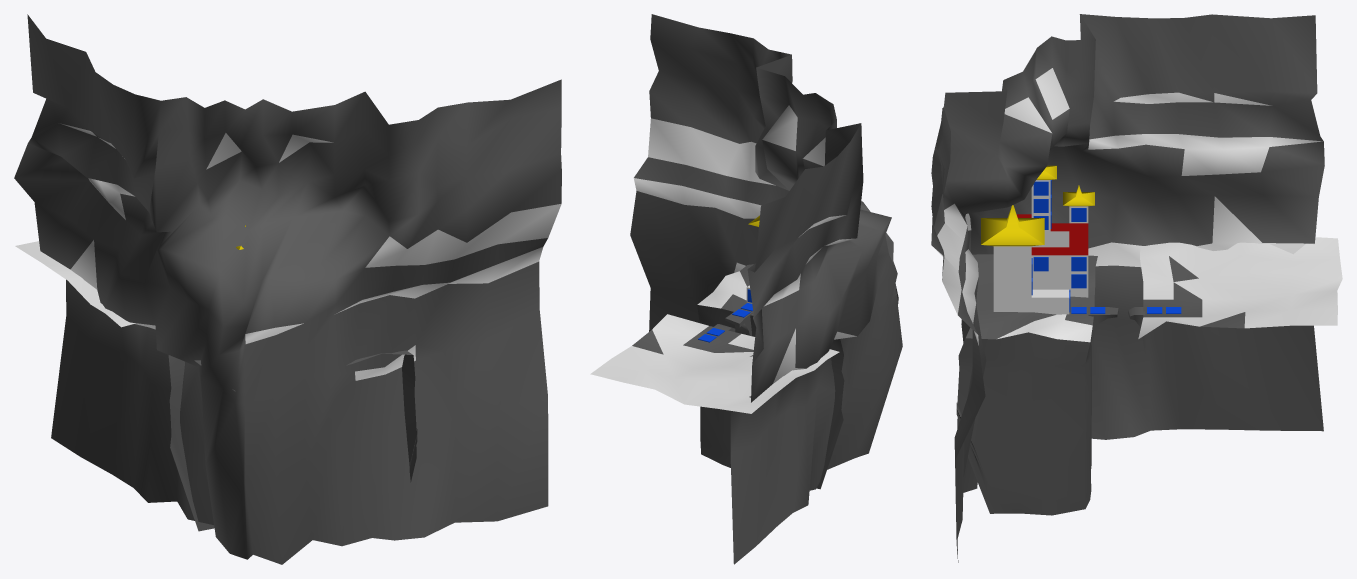
Rendered from Mountain_Corner_environment.fbx.
3 views of the same model, side by side, from view 1: azimuth 30°, elevation 25°; view 2: azimuth 150°, elevation 25°; view 3: azimuth 270°, elevation 25° (orthographic). The views are drawn at different scales.
Visible parts, largest first — view 1: environment; view 2: environment; view 3: environment, magnet_tile_left.
Boxes of the visible parts, bbox=[...] form: environment: bbox=[14, 14, 561, 564]; environment: bbox=[590, 14, 902, 564]; environment: bbox=[931, 14, 1342, 562]; magnet_tile_left: bbox=[1033, 181, 1086, 288].
Bounding box in the file's own units: 194 × 243 × 217.
